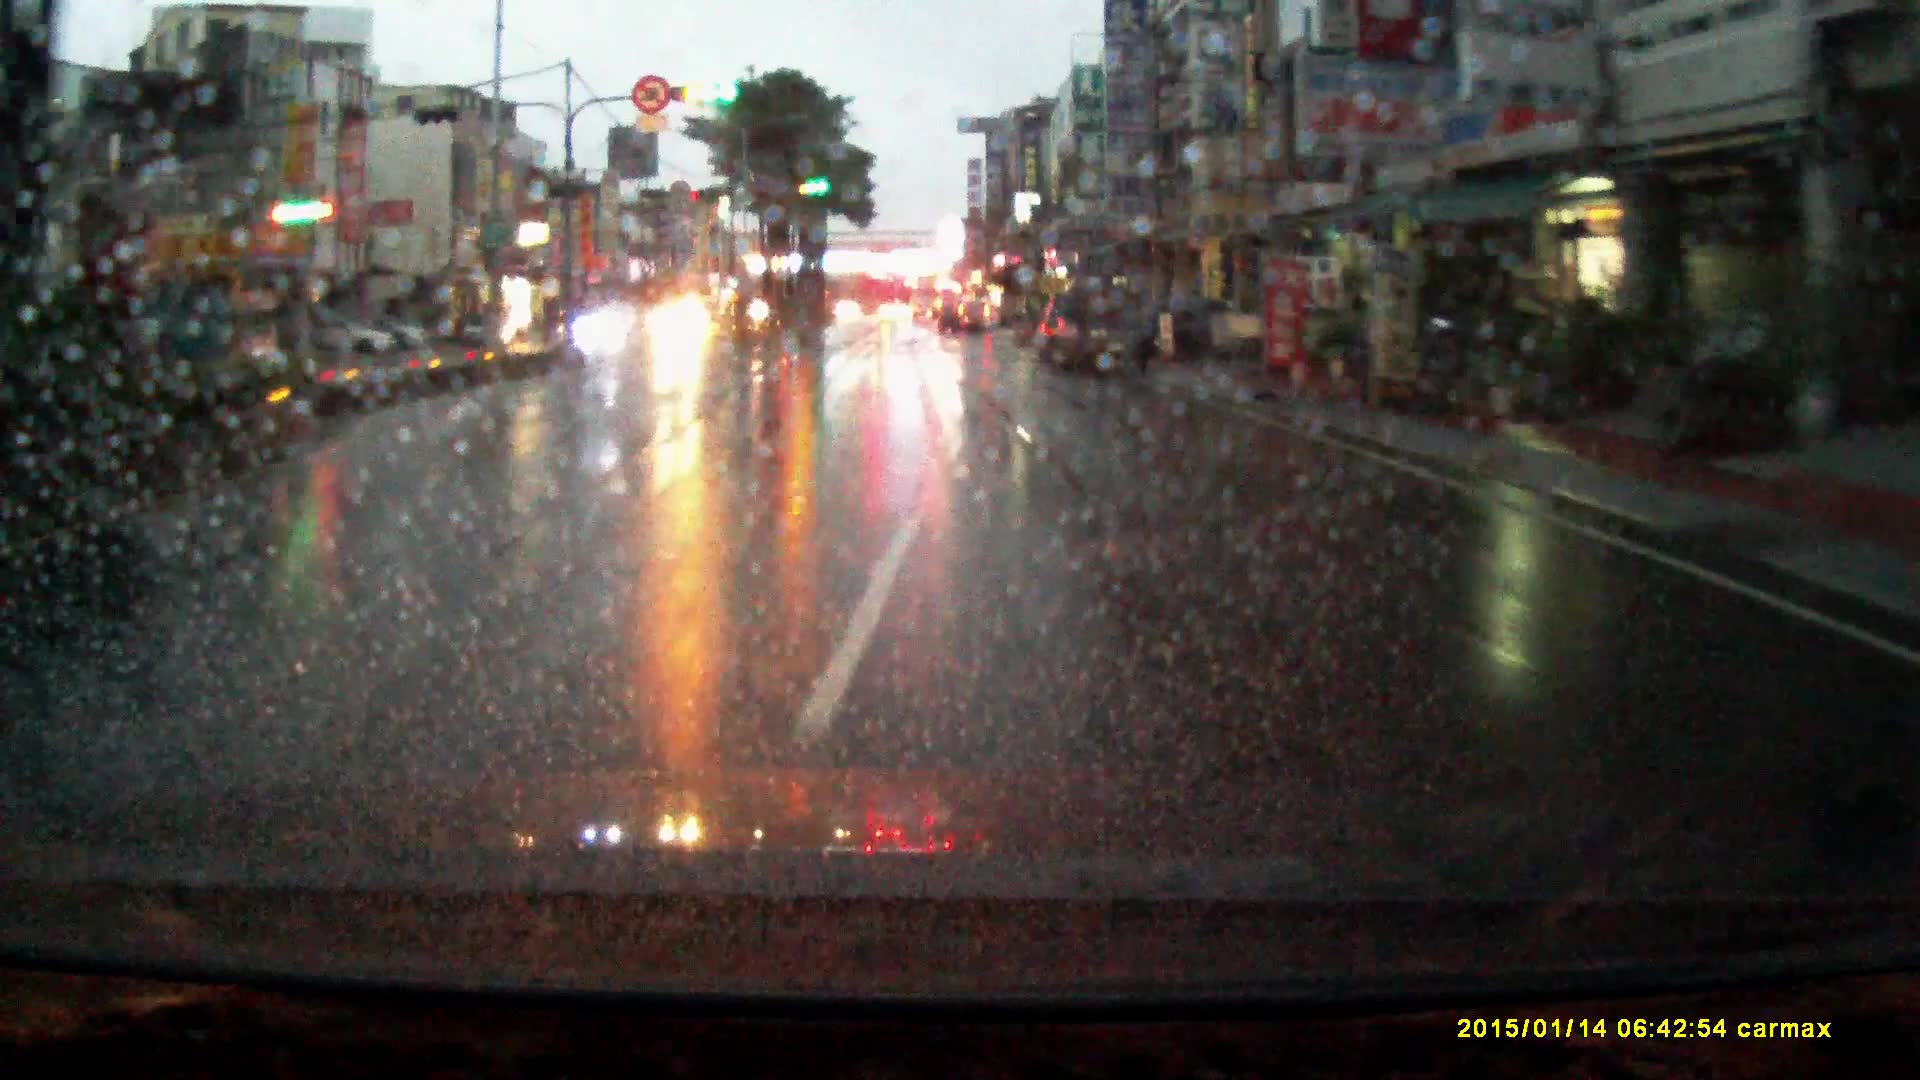vehicle: (1055, 281, 1156, 378), (647, 298, 719, 349), (309, 316, 394, 357), (574, 303, 636, 355), (1204, 311, 1271, 352), (938, 295, 994, 338), (1035, 293, 1065, 367), (462, 313, 520, 349), (378, 324, 433, 355), (910, 274, 944, 318), (878, 303, 913, 324)
